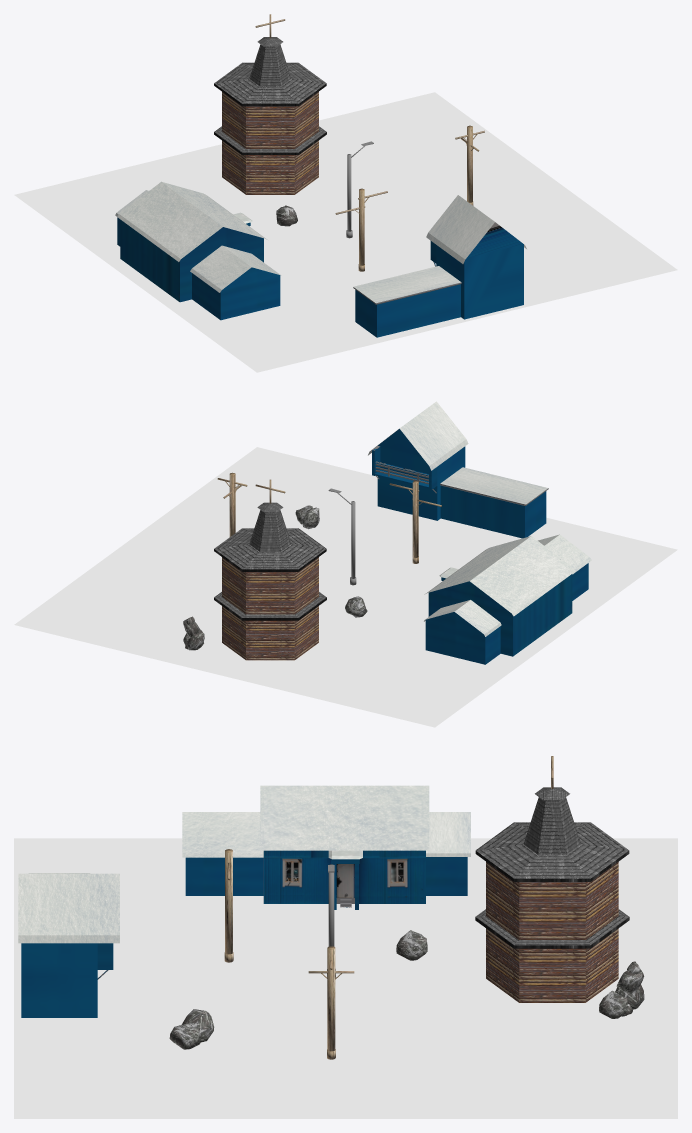
Rendered from escenario pueblo.glb.
3 views of the same model, one above another, from view 1: azimuth 30°, elevation 25°; view 2: azimuth 150°, elevation 25°; view 3: azimuth 270°, elevation 25° (orthographic). The views are drawn at different scales.
Visible parts, largest first — view 1: Piso.col.001, Cruz Ver.001, Base Luz.col.001; view 2: Piso.col.001, Cruz Ver.001, Base Luz.col.001, Piedra 1.col.001; view 3: Piso.col.001, Cruz Ver.001, Piedra 1.col.001, Base Luz.col.001.
Part boxes in pixels (box(x1,y1,x2,y2)): Piso.col.001: box(14, 92, 677, 372); Cruz Ver.001: box(115, 14, 526, 337); Base Luz.col.001: box(335, 125, 484, 271); Piso.col.001: box(14, 447, 677, 727); Cruz Ver.001: box(214, 401, 591, 664); Base Luz.col.001: box(217, 472, 441, 585); Piedra 1.col.001: box(183, 505, 367, 650); Piso.col.001: box(14, 838, 677, 1118); Cruz Ver.001: box(18, 756, 629, 1017); Piedra 1.col.001: box(169, 930, 644, 1049); Base Luz.col.001: box(224, 849, 354, 1059).
Size of the model in its own units: 10 by 3.72 by 10.
Materials: 9 (7 with a texture image).
